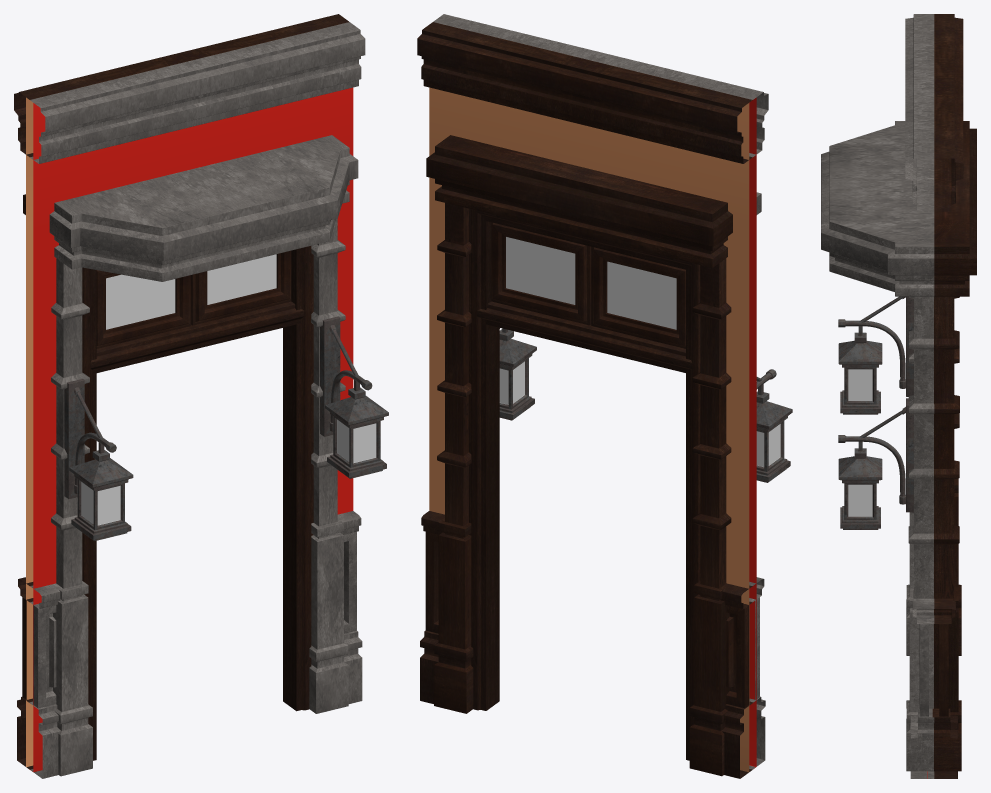
The model's file is SK7 DOOR 1.fbx.
3 views of the same model, side by side, from view 1: azimuth 30°, elevation 25°; view 2: azimuth 150°, elevation 25°; view 3: azimuth 270°, elevation 25° (orthographic). The views are drawn at different scales.
Parts seen in each view (by area): view 1: SK7 DOOR 1; view 2: SK7 DOOR 1; view 3: SK7 DOOR 1.
Boxes of the visible parts, <box> form: SK7 DOOR 1: <box>14,14,388,778</box>; SK7 DOOR 1: <box>417,14,792,778</box>; SK7 DOOR 1: <box>821,14,976,778</box>.
Bounding box in the file's own units: 200 × 400 × 91.1.
